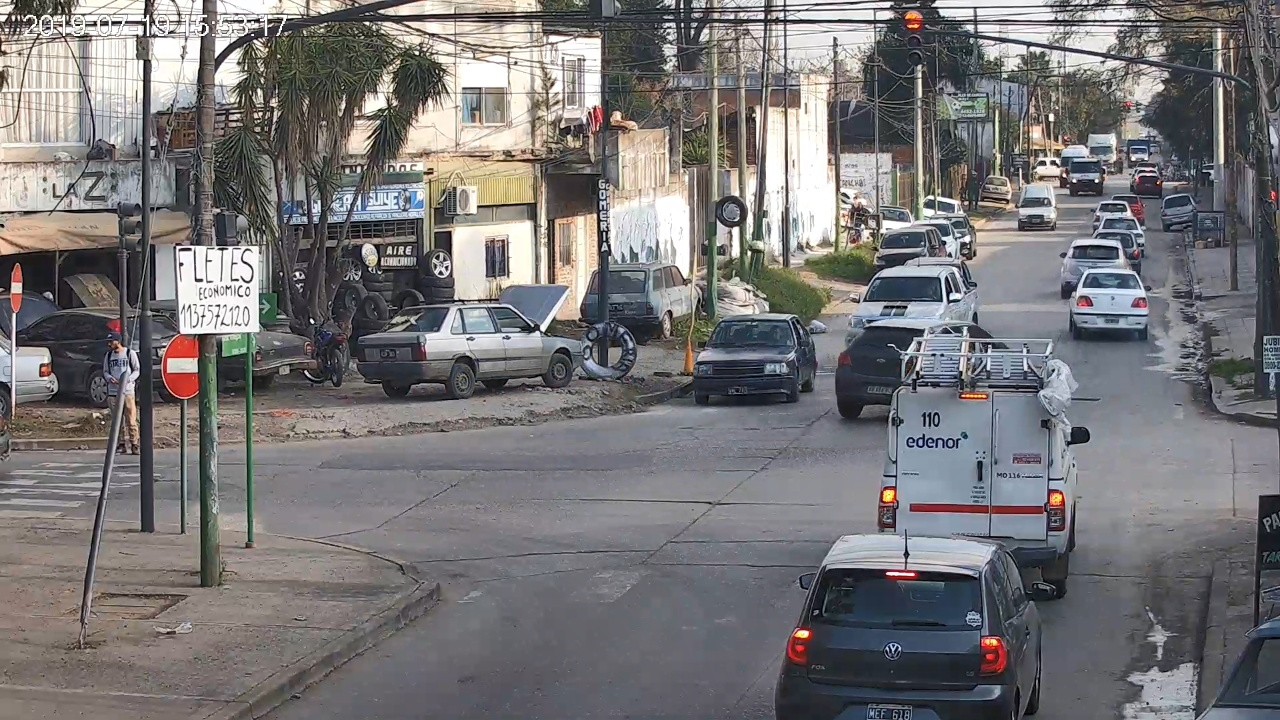car: (775, 533, 1056, 720), (1064, 269, 1153, 341)
traffic light: (904, 11, 925, 66)
